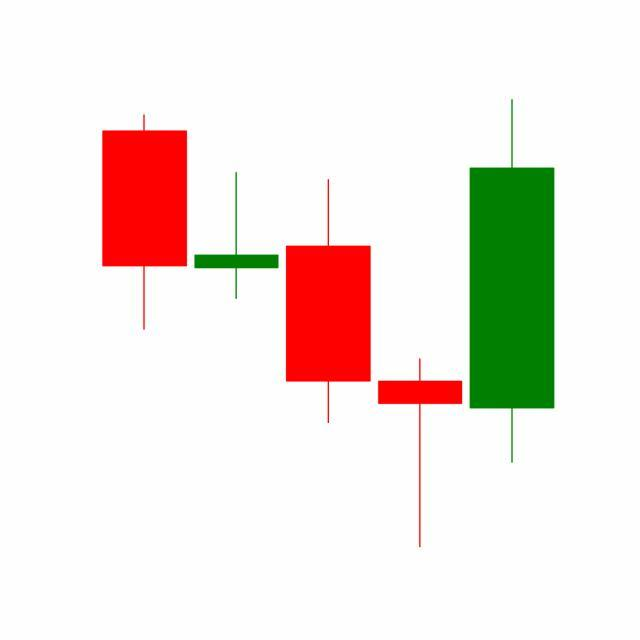Three Outside Up-Down: (190, 169, 467, 549)
